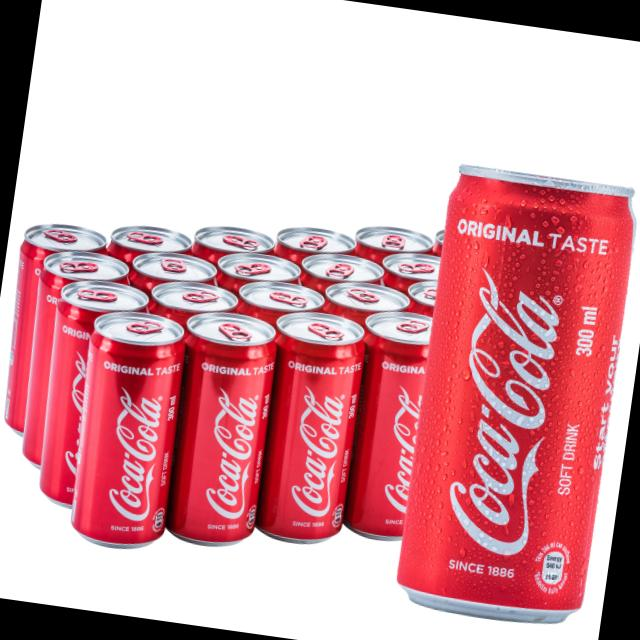cocacola: (382, 153, 640, 633), (163, 298, 292, 556), (64, 310, 195, 552), (248, 308, 374, 552), (334, 313, 460, 555), (24, 269, 148, 511)
